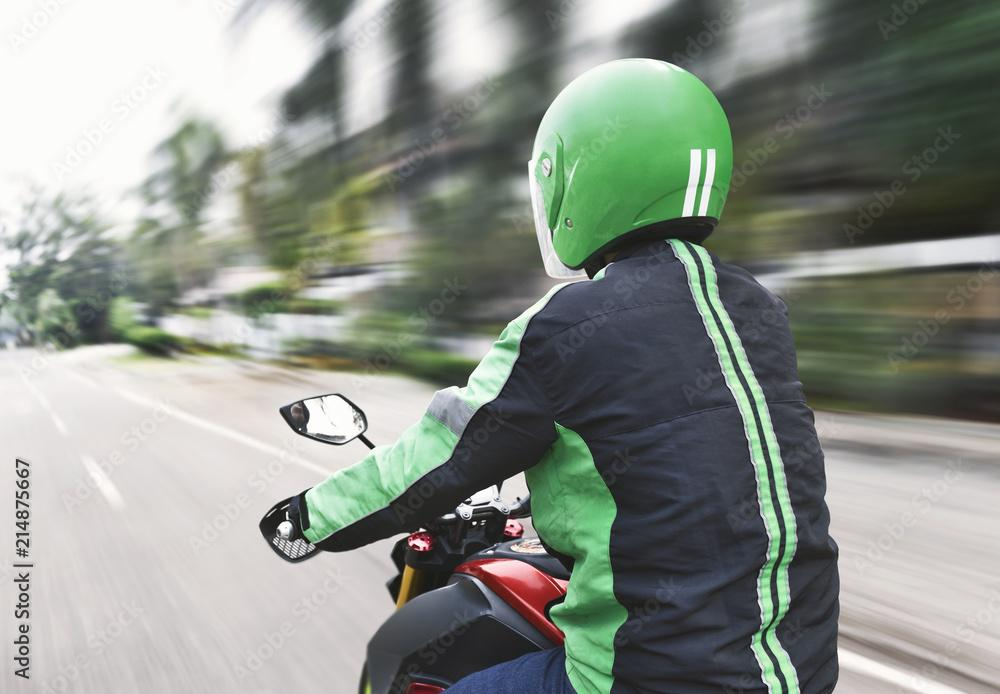helmet: (526, 56, 735, 280)
